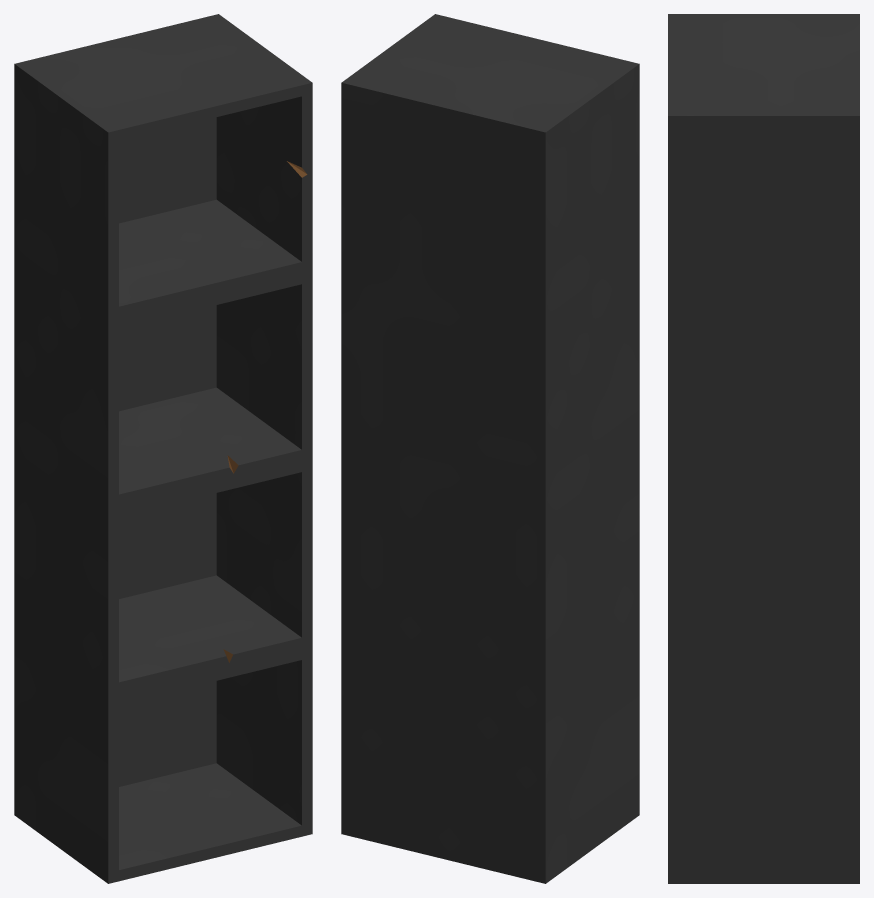
File: Shelf_01_03_Damaged.fbx
3 views of the same model, side by side, from view 1: azimuth 30°, elevation 25°; view 2: azimuth 150°, elevation 25°; view 3: azimuth 270°, elevation 25° (orthographic). The views are drawn at different scales.
Visible parts, largest first — view 1: Shelf_01_03_Damaged; view 2: Shelf_01_03_Damaged; view 3: Shelf_01_03_Damaged.
Boxes of the visible parts, x1,y1,x2,y2 form: Shelf_01_03_Damaged: (14, 14, 312, 883); Shelf_01_03_Damaged: (341, 14, 639, 883); Shelf_01_03_Damaged: (668, 14, 859, 883).
Size of the model in its own units: 0.4966 by 1.75 by 0.3952.
